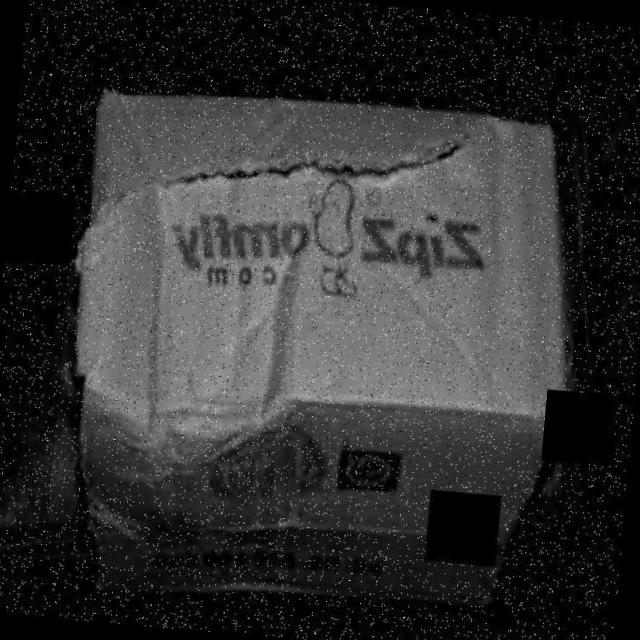box: (40, 67, 593, 640)
